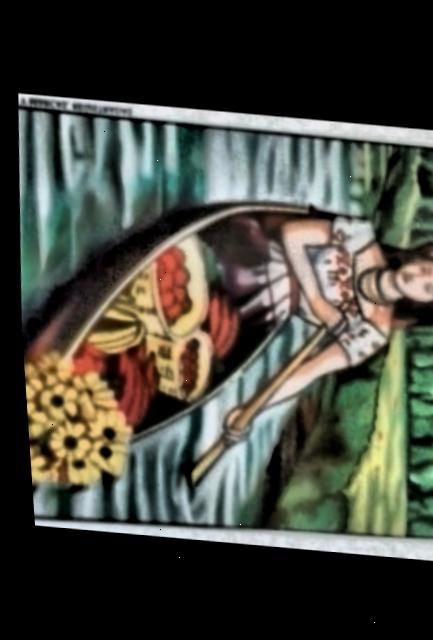La Chalupa: (16, 106, 433, 534)
